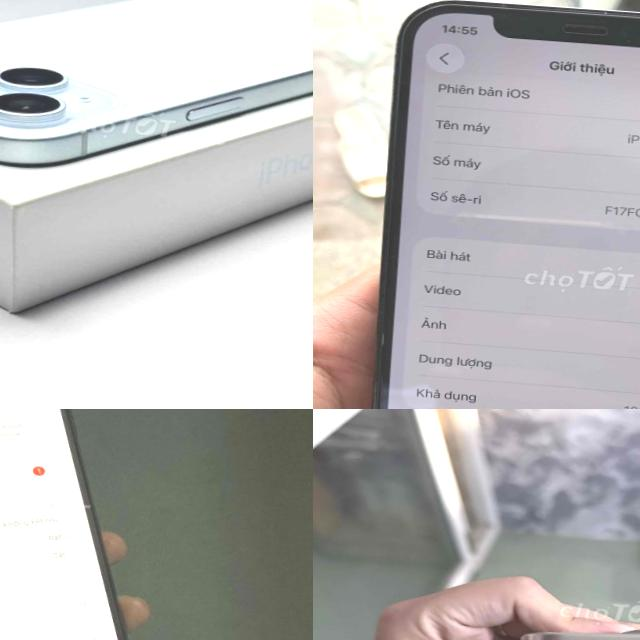gen_12_13: (350, 0, 640, 409)
gen_15: (0, 0, 313, 199)
gen_x_xs: (0, 409, 176, 640)
